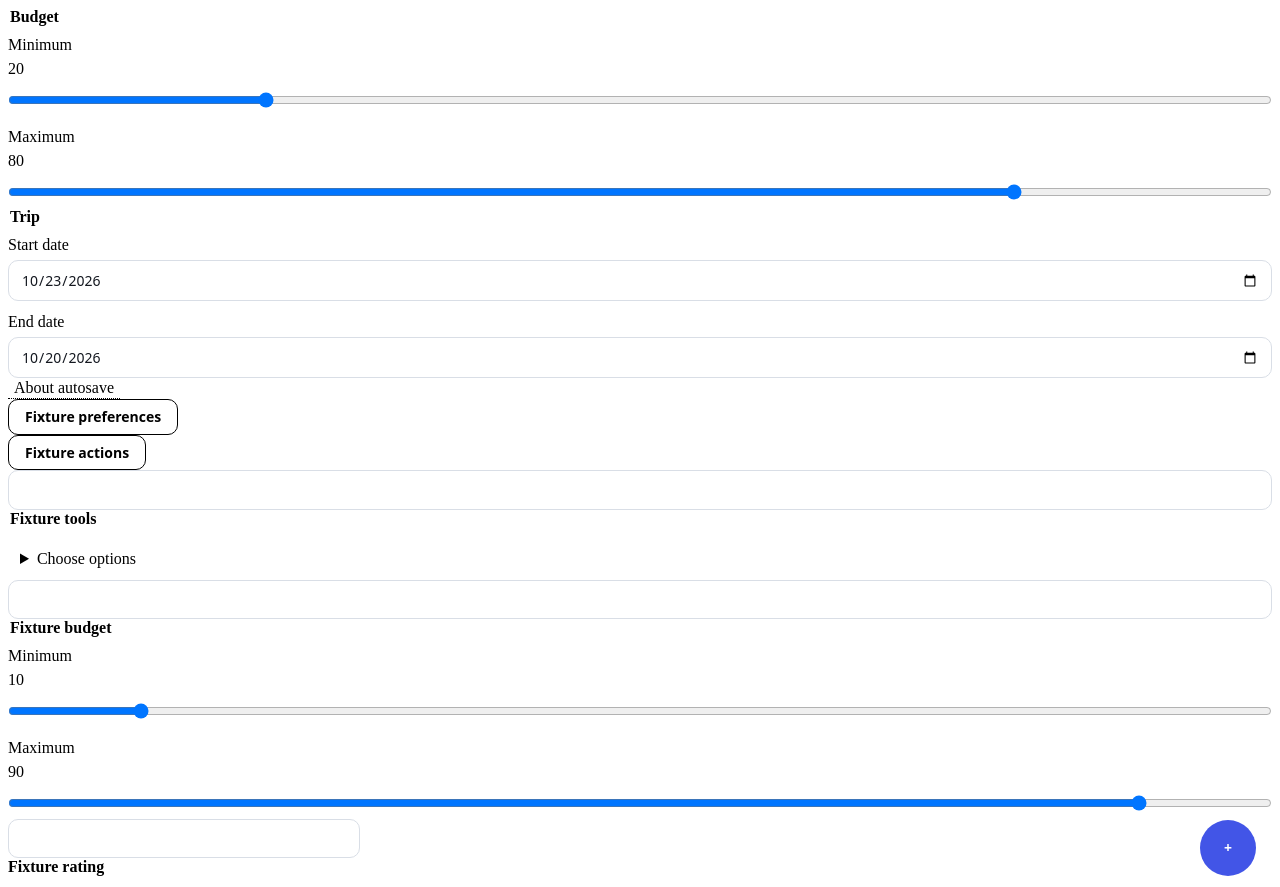
Scenario: completion primitives › prevents slider crossing and validates a reversed date interval
Set the slider named "Budget minimum" to "95" at (1202, 100), box [8,84,1272,116]
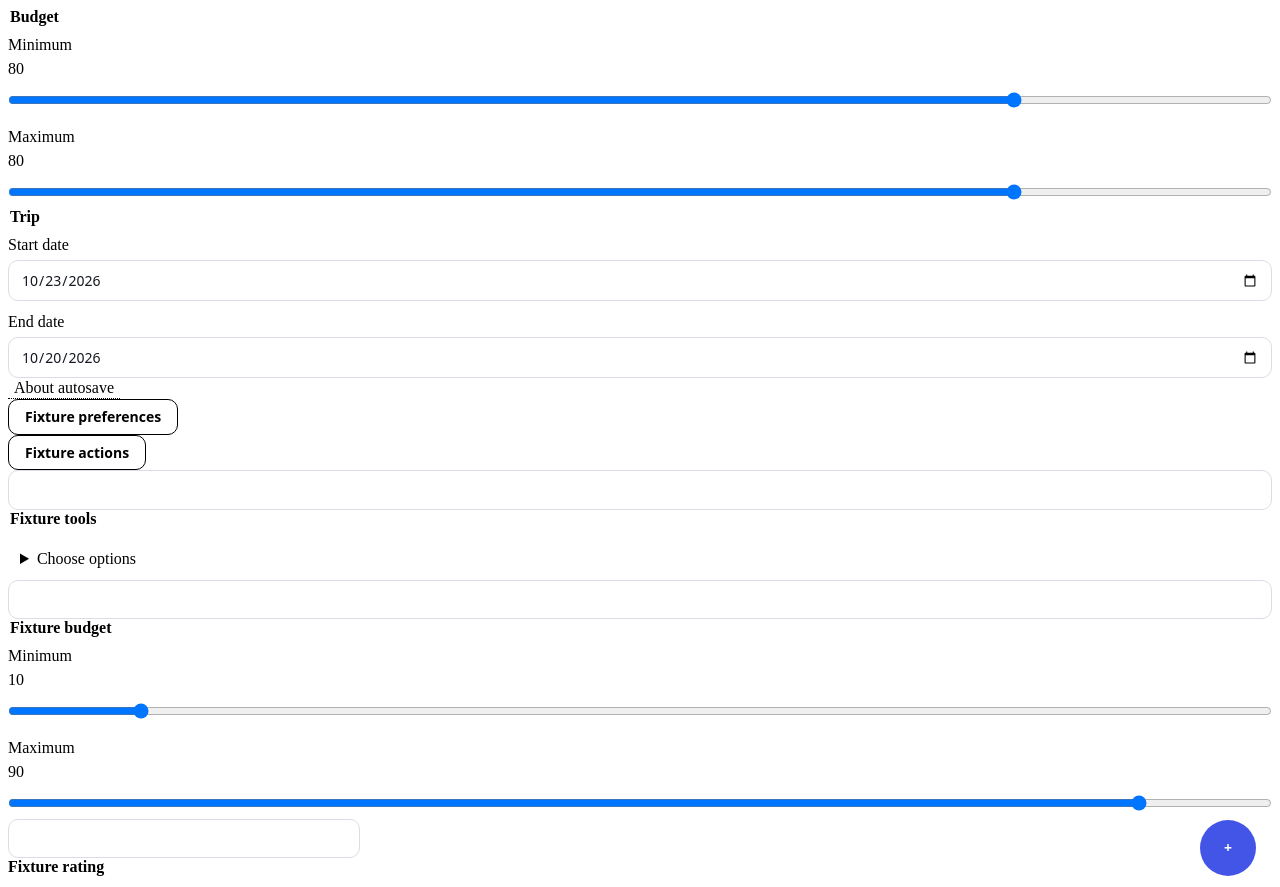
Expected: the slider named "Budget minimum" holds "80", [8,84,1272,116]
